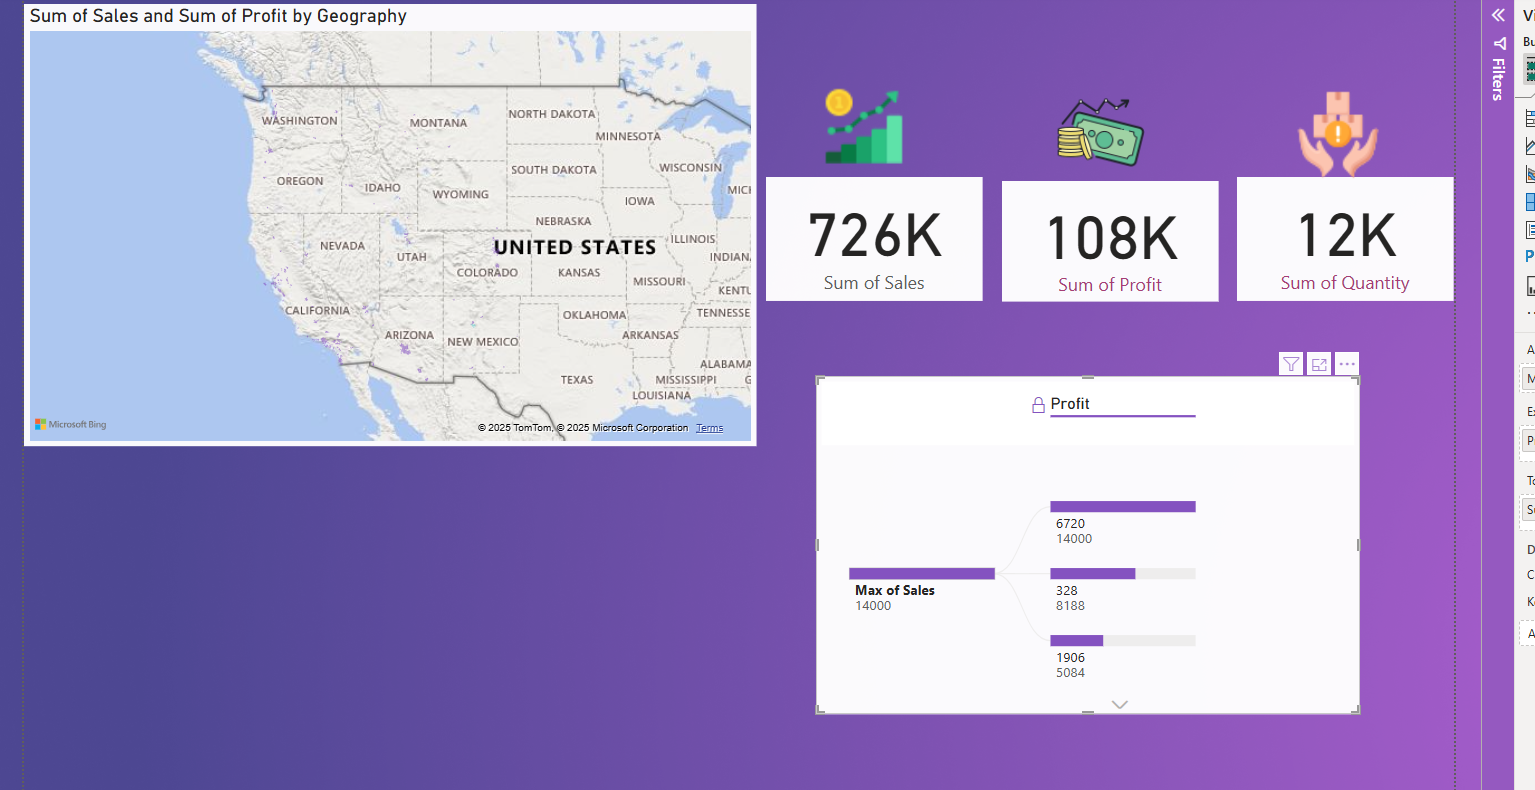

The page's visual inventory and layout, read from the dashboard file:
{"tool":"powerbi","page":{"name":"Page 1","canvas":[1280,720],"ordinal":0},"visuals":[{"type":"filledMap","fields":{"Category":["Walmart.Geography"]},"box":[0,7.2,656.4,395.8],"z":0},{"type":"card","fields":{"Values":["Sum(Walmart.Profit)"]},"box":[875.4,165.3,193.6,108],"z":1000},{"type":"card","fields":{"Values":["Sum(Walmart.Sales)"]},"box":[664.3,162.4,193.6,110.9],"z":2000},{"type":"card","fields":{"Values":["CountNonNull(Walmart.Quantity)"]},"box":[1086.4,162.4,193.6,110.9],"z":3000},{"type":"image","box":[1126.6,62.7,112.8,103],"z":4000},{"type":"image","box":[769.3,70.7,422.7,103.9],"z":5000},{"type":"image","box":[683.3,70.7,153.1,92.2],"z":6000},{"type":"decompositionTreeVisual","fields":{"ExplainBy":["Walmart.Profit","Walmart.Category"],"Analyze":["CountNonNull(Walmart.Sales)"]},"box":[729,325.1,487.2,302.7],"z":7000},{"type":"slicer","fields":{"Values":["Walmart.Category"]},"box":[164.8,403,164.8,317],"z":8000},{"type":"slicer","fields":{"Values":["Walmart.Ship Date.Variation.Date Hierarchy.Year","Walmart.Ship Date.Variation.Date Hierarchy.Month","Walmart.Ship Date.Variation.Date Hierarchy.Day"]},"box":[0,403,164.8,317],"z":9000}]}

Visuals, with their boxes in screenshot pixels (x1, y1, x2, y2):
filledMap - Walmart.Geography: [16, 0, 754, 445]
card - Sum(Walmart.Profit): [1000, 178, 1217, 299]
card - Sum(Walmart.Sales): [763, 175, 980, 299]
card - CountNonNull(Walmart.Quantity): [1237, 175, 1455, 299]
image: [1282, 62, 1409, 178]
image: [881, 71, 1356, 188]
image: [784, 71, 956, 175]
decompositionTreeVisual - Walmart.Profit x Walmart.Category: [835, 357, 1383, 698]
slicer - Walmart.Category: [201, 445, 386, 789]
slicer - Walmart.Ship Date.Variation.Date Hierarchy.Year x Walmart.Ship Date.Variation.Date Hierarchy.Month: [16, 445, 201, 789]
